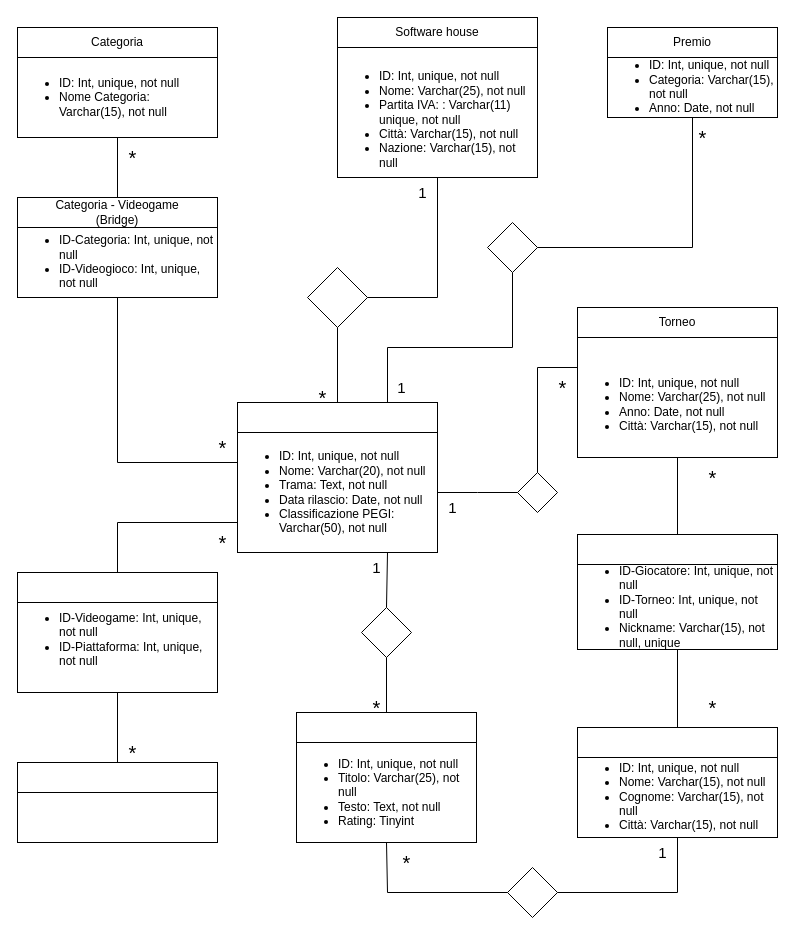
This 795x935 diagram has some shape labels left out. The shapes that lost their labels are listed below. From the top down, each one's centre as x and y in pixels, then its label:
the point at 337,417: Videogame
the point at 677,549: Giocatore - Torneo (Bridge)
the point at 117,587: Videogame - Piattaforma (Bridge)
the point at 386,727: Recensione
the point at 677,742: Giocatore
the point at 117,777: Piattaforma
the point at 117,817: ID: Int, unique, not null Nome: Varchar(25), not null
